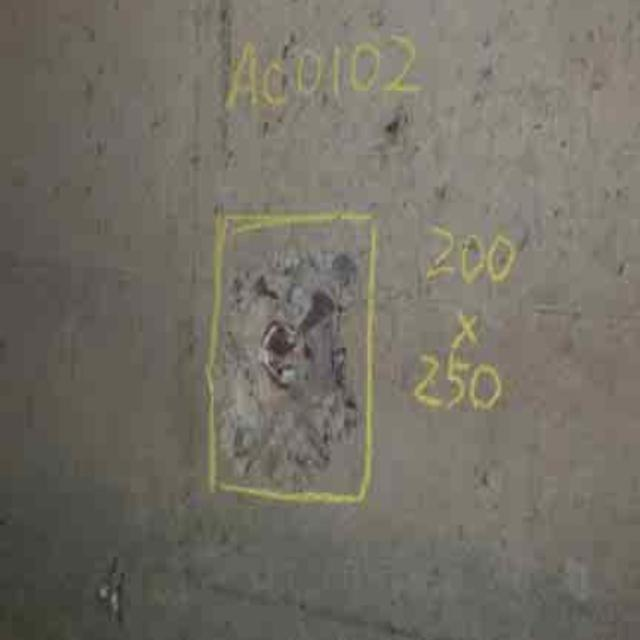spalling: (213, 219, 370, 497)
